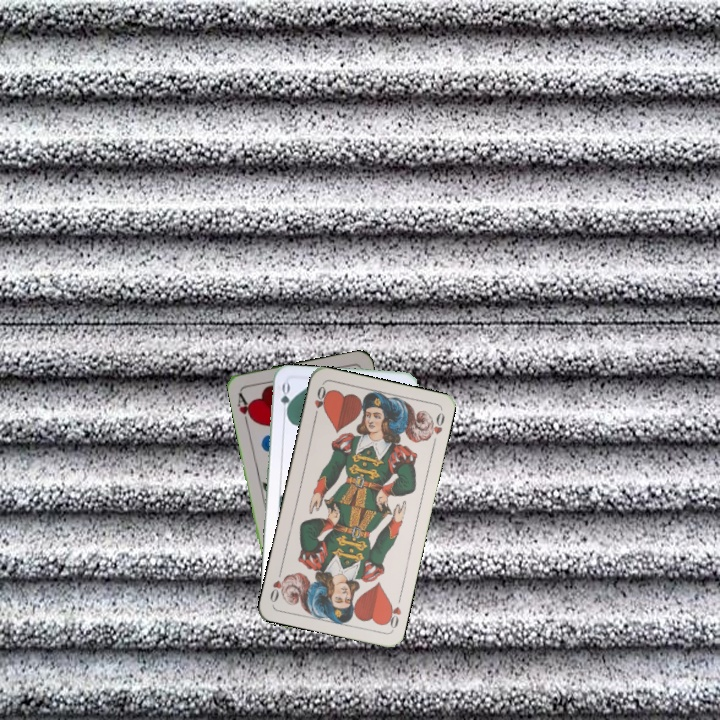GO: (276, 379, 293, 420)
HA: (233, 388, 256, 428)
HO: (382, 592, 404, 632), (310, 382, 330, 421)
